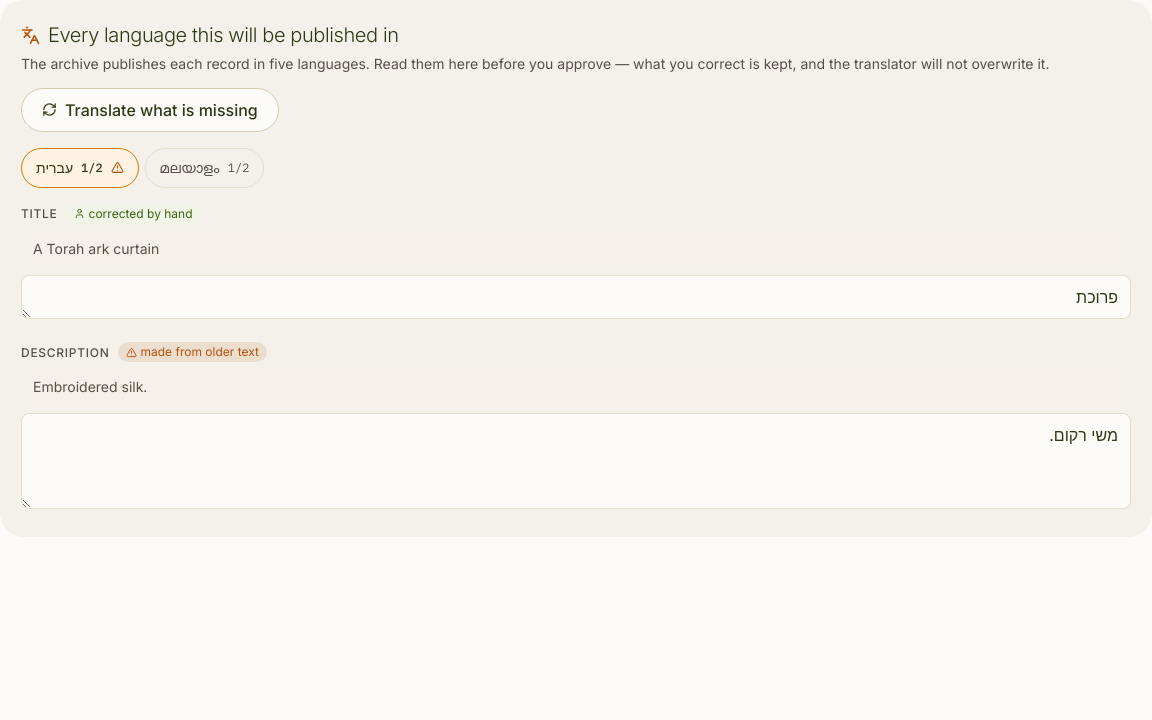
the languages a record will be published in › says which fields have nothing yet
Click the text "മലയാളം". click: {"x": 190, "y": 168}
box: [160,158,220,178]
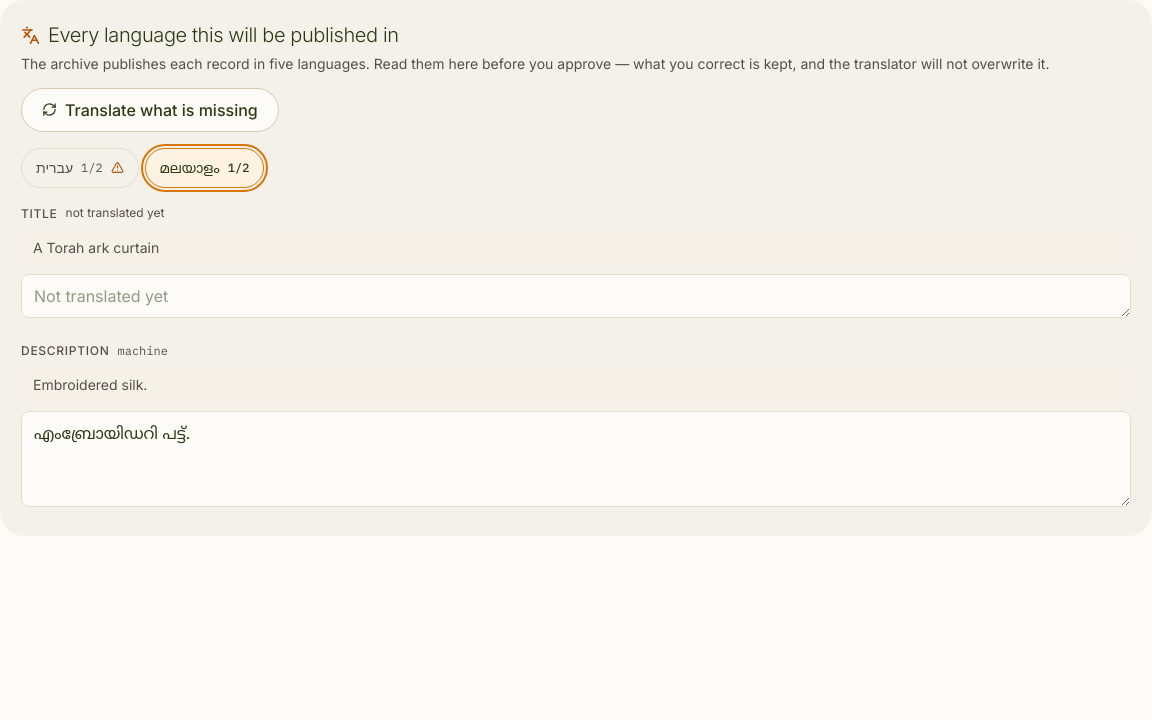
Expected: the text "not translated yet" is shown, [66,205,164,221]
